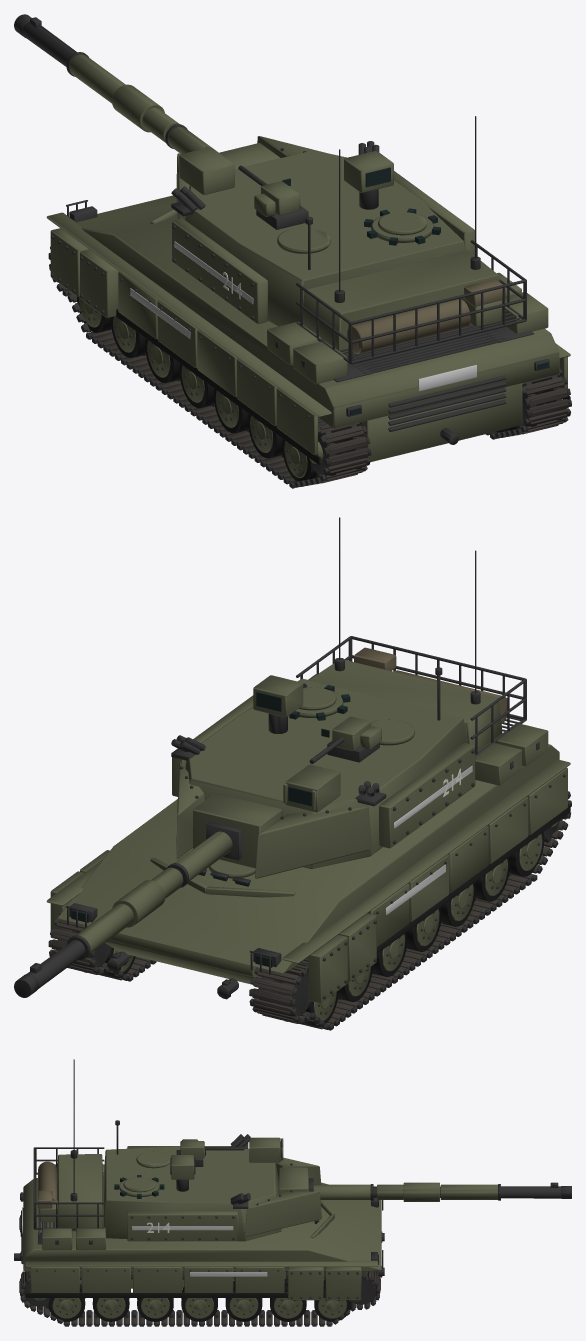
Rendered from vanguard.glb.
3 renders of one model, top to bottom at view 1: azimuth 30°, elevation 25°; view 2: azimuth 150°, elevation 25°; view 3: azimuth 270°, elevation 25°, orthographic. The views are drawn at different scales.
Visible parts, largest first — view 1: Turret, Hull, Tracks, Gun; view 2: Turret, Hull, Tracks, Gun; view 3: Hull, Turret, Tracks, Gun.
Boxes of the visible parts, x1,y1,x2,y2 form: Turret: [171, 116, 526, 363]; Hull: [46, 195, 570, 465]; Tracks: [48, 246, 571, 488]; Gun: [14, 14, 210, 153]; Turret: [171, 517, 526, 878]; Hull: [46, 674, 570, 1003]; Tracks: [48, 791, 571, 1030]; Gun: [14, 831, 232, 997]; Hull: [14, 1164, 384, 1300]; Turret: [33, 1059, 321, 1241]; Tracks: [19, 1208, 380, 1326]; Gun: [313, 1182, 571, 1201].
Size of the model in its own units: 4.23 by 4.75 by 11.56.
